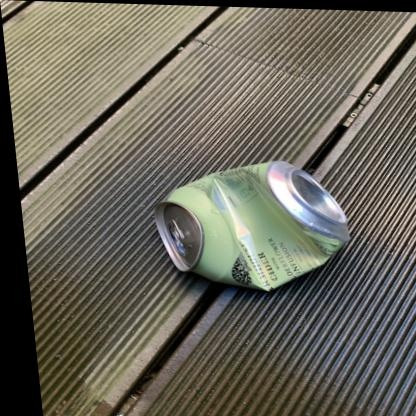trash: (155, 161, 348, 290)
